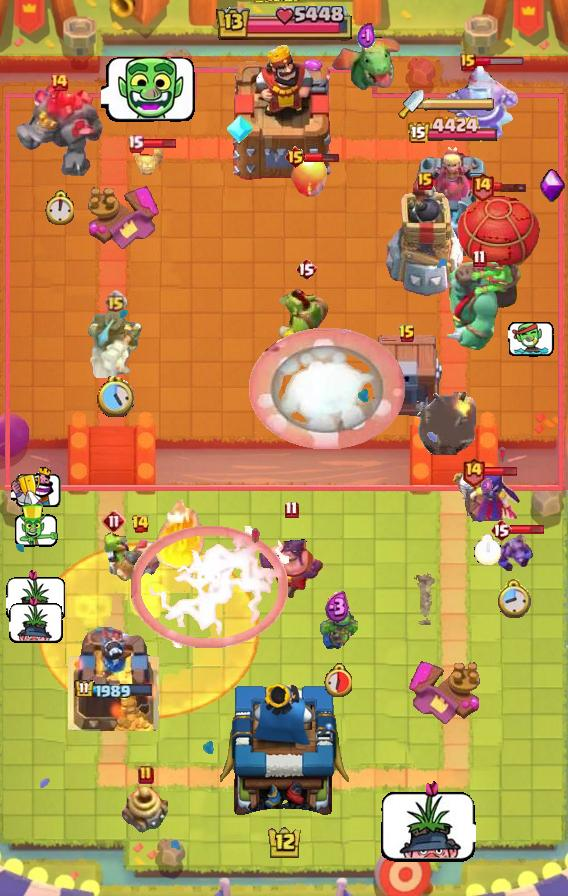axe: (452, 467, 522, 527)
baby-dragon: (416, 392, 475, 455)
bar: (409, 142, 497, 256)
barbarian-evolution: (131, 526, 289, 648)
bomb: (368, 335, 446, 421)
cannon-cart: (455, 183, 541, 301)
cannoneer-tower: (14, 84, 104, 178)
clock: (214, 6, 354, 43)
electro-spirit: (325, 591, 350, 624), (356, 22, 375, 51), (482, 478, 494, 494)
electro-wizard: (328, 36, 404, 94)
elixir: (97, 375, 134, 416), (495, 578, 531, 619), (44, 191, 74, 225), (323, 663, 352, 697), (475, 534, 501, 565)
elixir-collector: (443, 66, 519, 142)
emote: (475, 56, 526, 67), (492, 181, 528, 193), (142, 138, 178, 149), (304, 152, 340, 163), (483, 467, 518, 478), (510, 525, 545, 536)
executioner: (117, 537, 163, 581)
fisherman: (413, 573, 439, 625)
flying-machine: (278, 285, 334, 345)
giant-snowball: (316, 611, 358, 651)
goblin-drill: (121, 787, 171, 835)
hog: (290, 155, 330, 199)
ice-spirit-evolution: (128, 144, 166, 176)
inferno-dragon: (86, 302, 144, 378)
king-tower: (219, 678, 349, 826), (230, 43, 338, 181)
king-tower-bar: (424, 97, 496, 111)
lava-hound: (435, 258, 523, 352)
monk: (258, 523, 324, 601)
pad_2: (225, 114, 255, 144)
phoenix-egg: (36, 540, 259, 720)
queen-tower: (68, 627, 160, 731)
royal-delivery: (493, 531, 533, 575)
selected: (407, 116, 499, 146), (74, 679, 154, 701)
skeleton: (378, 777, 476, 864), (102, 53, 199, 126), (5, 568, 66, 622), (8, 595, 63, 644), (12, 504, 59, 549), (11, 467, 61, 507), (508, 319, 554, 357)
skeleton-king-skill: (540, 168, 566, 202)
text: (470, 170, 495, 201), (462, 457, 486, 488), (102, 509, 126, 533), (285, 145, 308, 169), (104, 291, 127, 314), (295, 257, 317, 281), (490, 518, 512, 542), (49, 72, 69, 92), (130, 514, 150, 534), (398, 324, 416, 344), (128, 134, 145, 153), (138, 765, 154, 785), (460, 53, 476, 71), (417, 172, 433, 190), (472, 248, 487, 267), (285, 500, 300, 519)
valkyrie: (152, 485, 212, 575)
wall-breaker: (250, 327, 406, 450)
zap: (96, 528, 132, 578)
zappy: (382, 178, 468, 298)
